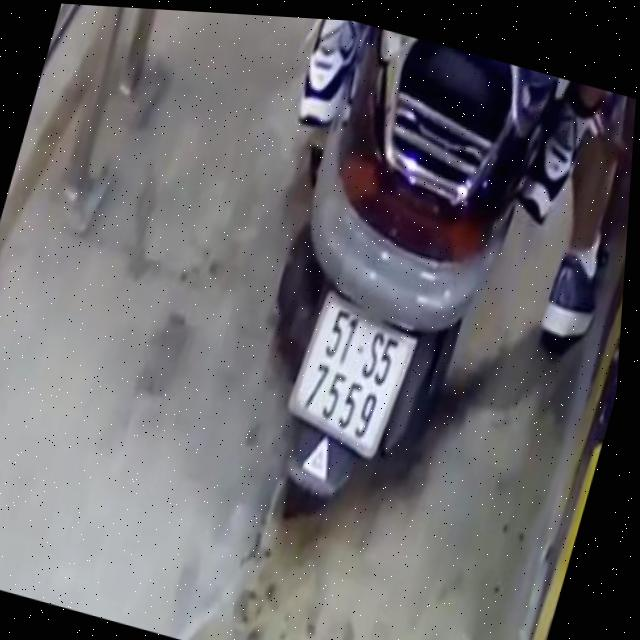motorcycle: (198, 14, 568, 566)
plate: (268, 278, 429, 467)
